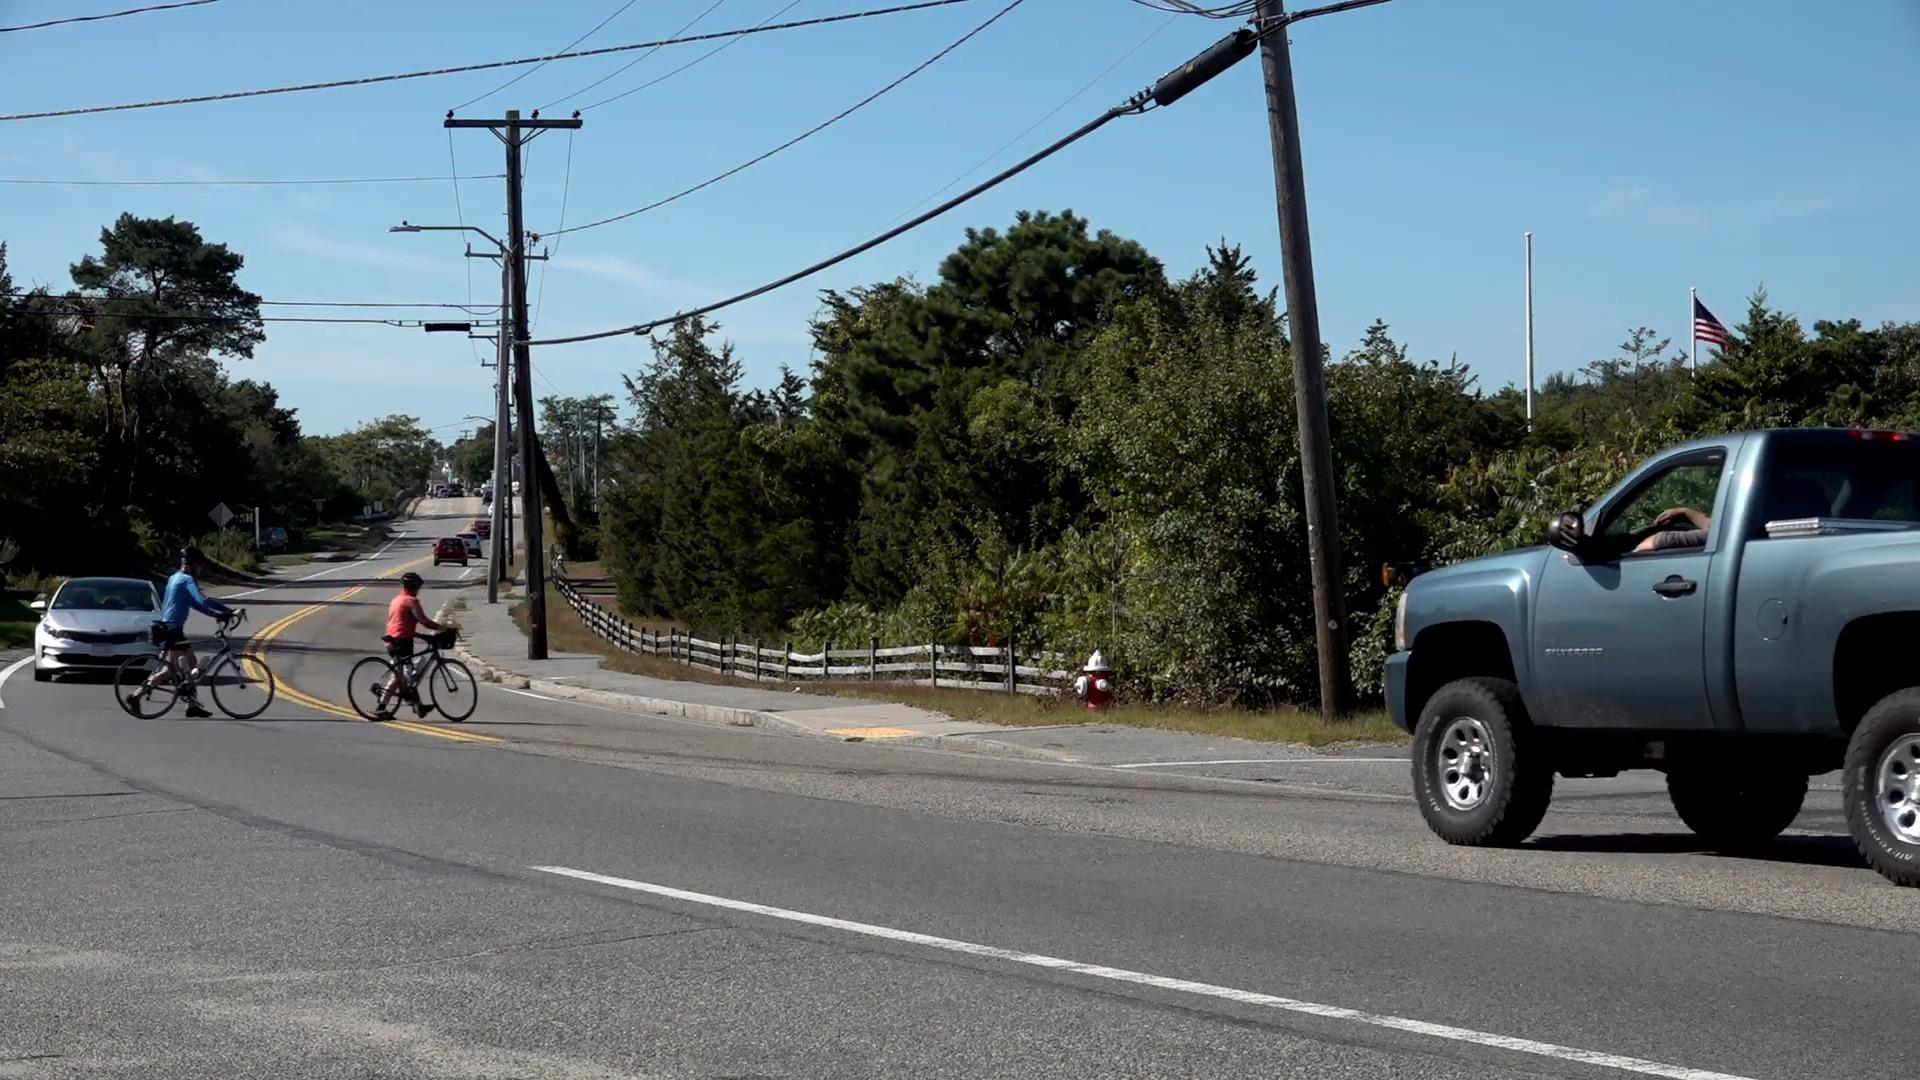pickup: (1389, 421, 1920, 882)
sedans: (36, 578, 161, 687)
